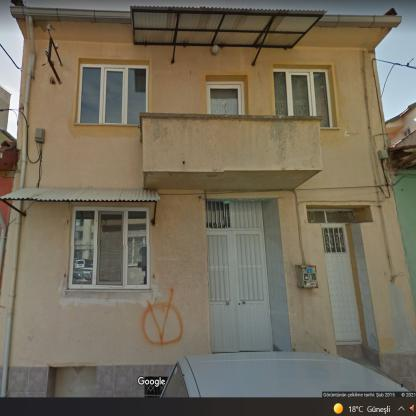door: (207, 228, 271, 350), (324, 228, 360, 344), (205, 80, 245, 115)
window: (68, 207, 147, 289), (78, 63, 147, 124), (273, 69, 333, 126), (206, 201, 260, 227)
